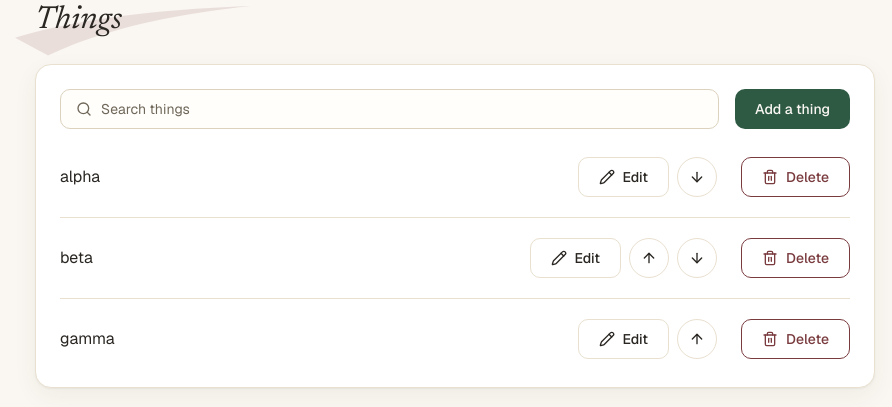
Test: ItemList › search › says how many of the items match
This screenshot has width=892, height=407.
Type "beta" into the search field labelled "Search things" at (390, 109), box [60, 89, 719, 129]
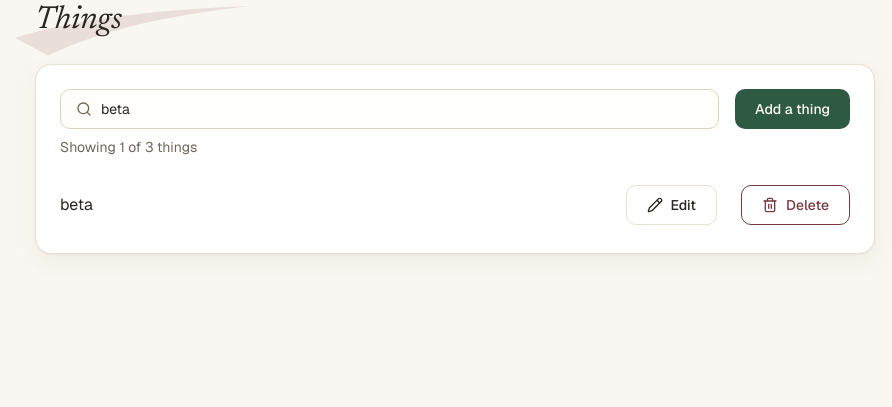
Expected: the text "Showing 1 of 3 things" is shown, [60, 138, 197, 156]
